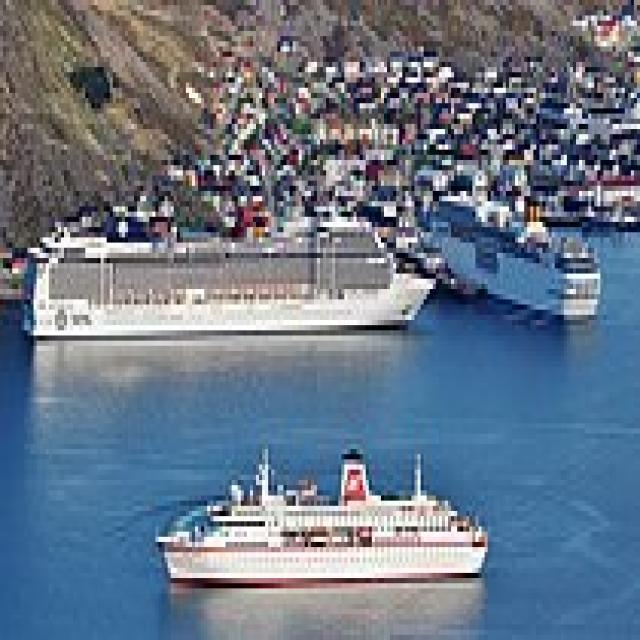Ship: (147, 450, 513, 610), (28, 197, 431, 342), (419, 161, 617, 326)
